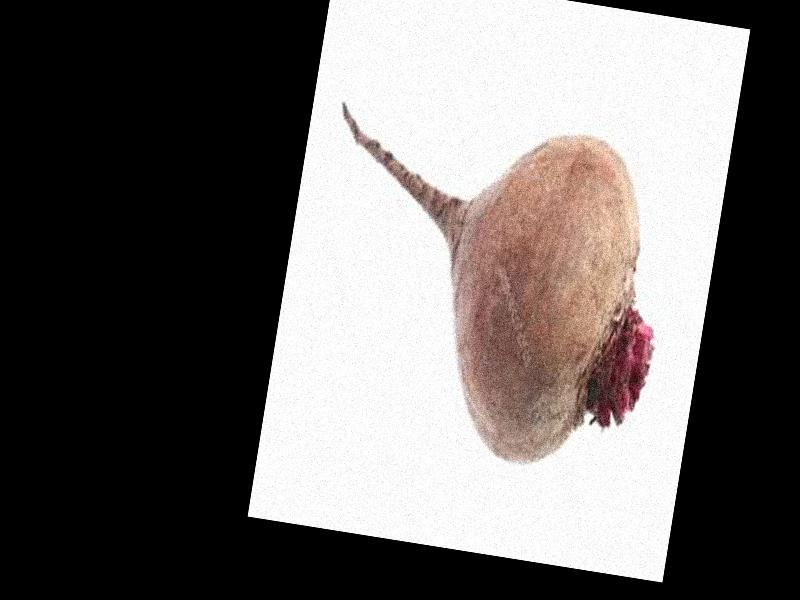Beet: (289, 96, 683, 487)
